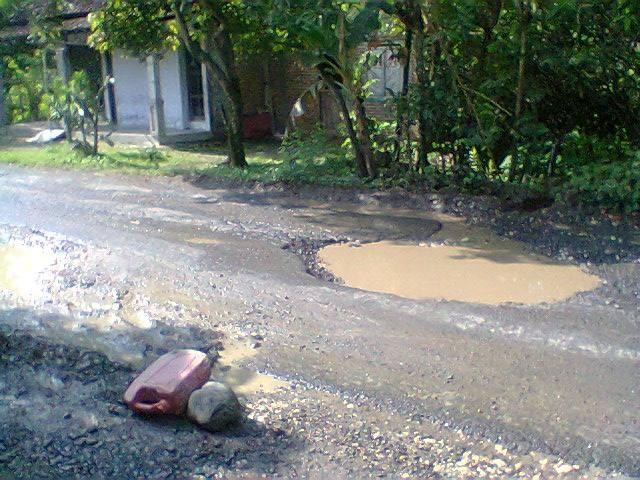Pothole: (260, 179, 619, 327), (0, 216, 275, 397)
